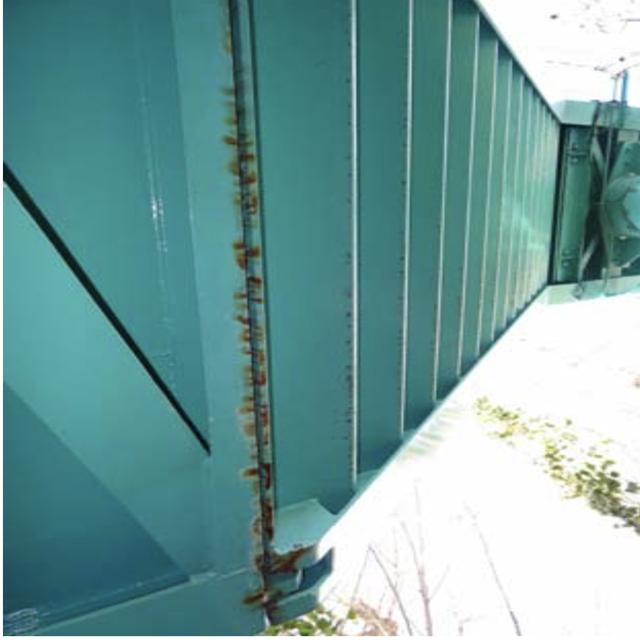corrosion: (207, 54, 310, 626)
